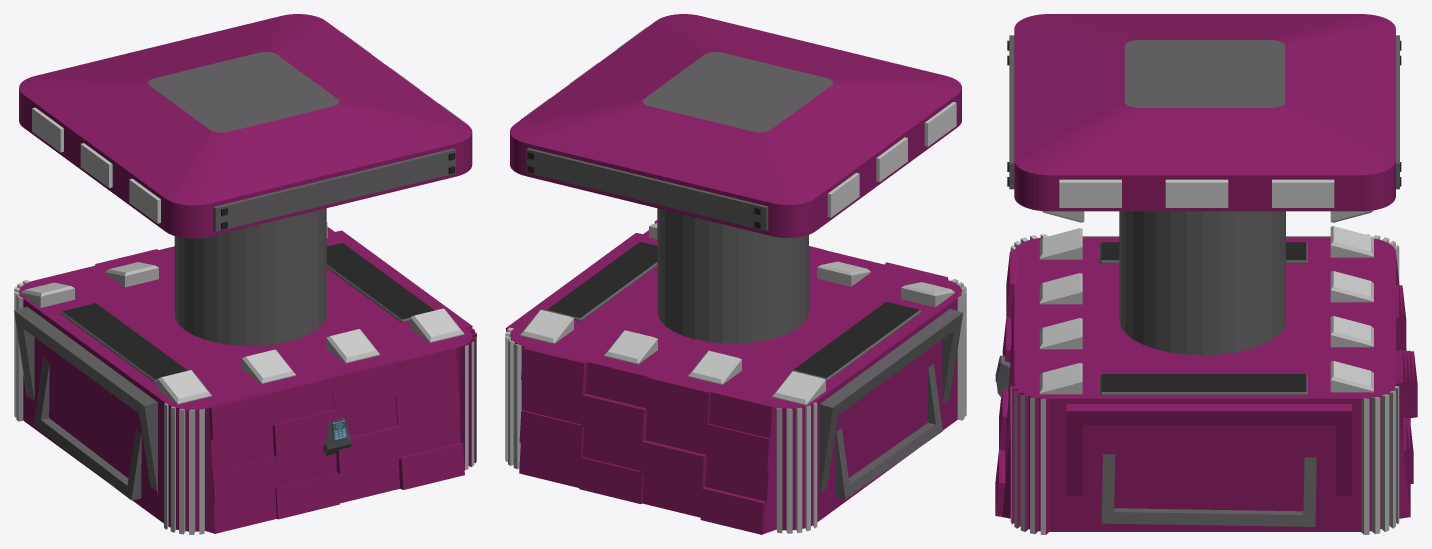
Rendered from LargeJumpDriveCharger_Small_LOD3.fbx.
3 renders of one model, left to right at view 1: azimuth 30°, elevation 25°; view 2: azimuth 150°, elevation 25°; view 3: azimuth 270°, elevation 25°, orthographic. The views are drawn at different scales.
Parts seen in each view (by area): view 1: Plane.003, Cylinder.002, Plane.004, Plane.002, Cube.005; view 2: Plane.003, Cylinder.002, Plane.004, Plane.002; view 3: Plane.003, Cylinder.002, Plane.004, Plane.002.
Part boxes in pixels (x1,y1,x2,y2): Plane.003: (14, 14, 476, 534); Cylinder.002: (174, 208, 326, 345); Plane.004: (60, 243, 434, 382); Plane.002: (213, 148, 455, 231); Cube.005: (323, 418, 351, 455); Plane.003: (505, 14, 966, 534); Cylinder.002: (657, 208, 808, 343); Plane.004: (546, 241, 921, 380); Plane.002: (526, 148, 768, 230); Plane.003: (995, 14, 1417, 534); Cylinder.002: (1119, 211, 1285, 355); Plane.004: (1100, 242, 1307, 395); Plane.002: (1007, 35, 1401, 189).
Size of the model in its own units: 1.52 by 1.53 by 1.55.
